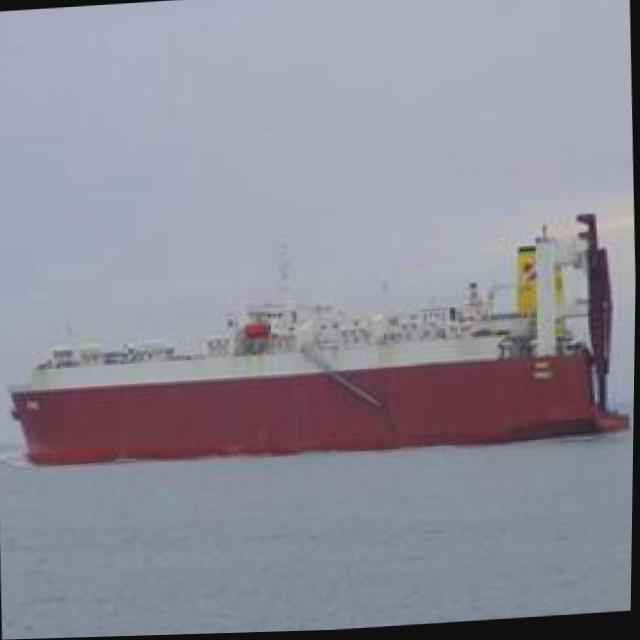ship2: (10, 216, 631, 467)
